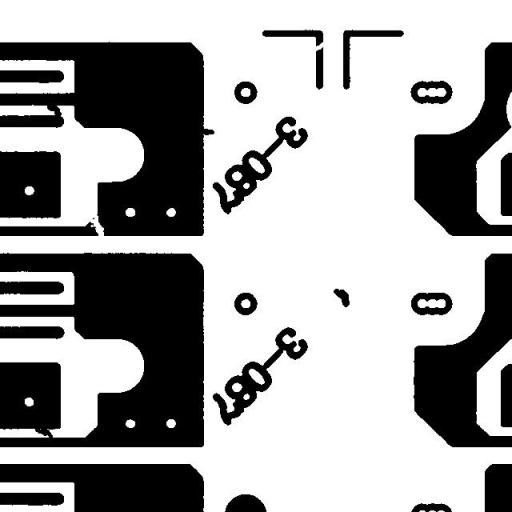copper: (326, 281, 356, 314)
open: (78, 206, 112, 247), (302, 34, 332, 61)
short: (27, 417, 61, 450), (39, 92, 69, 124)
spur: (188, 121, 222, 142)
